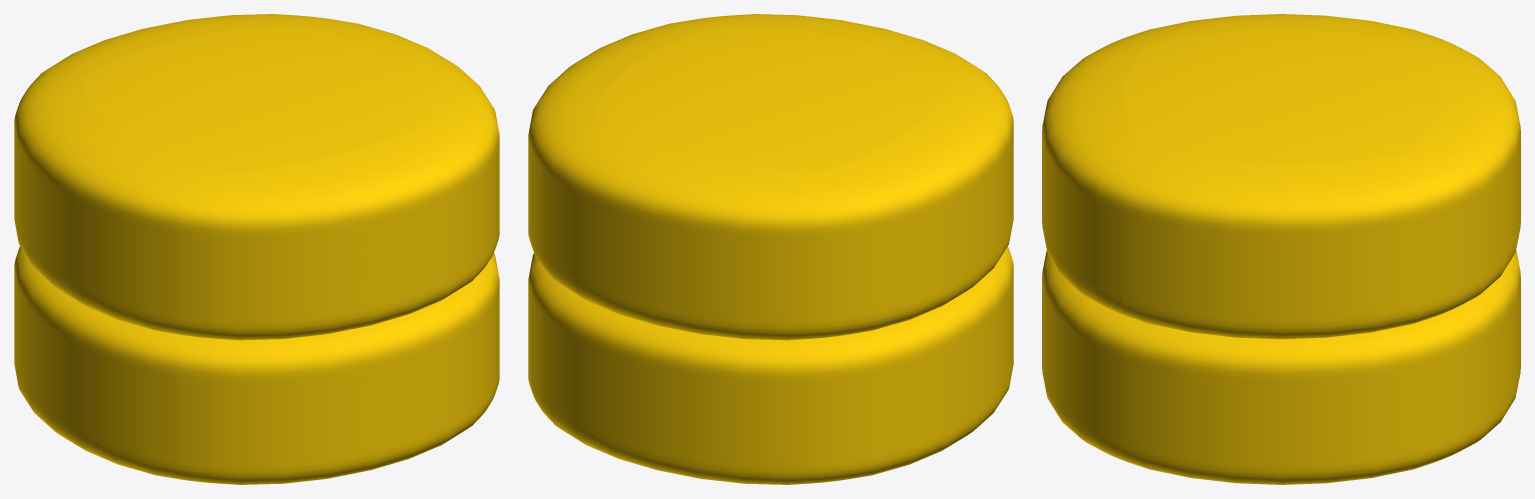
File: mouse.glb
3 renders of one model, left to right at view 1: azimuth 30°, elevation 25°; view 2: azimuth 150°, elevation 25°; view 3: azimuth 270°, elevation 25°, orthographic.
Parts seen in each view (by area): view 1: Cube.004; view 2: Cube.004; view 3: Cube.004.
Part boxes in pixels (bbox=[...]): Cube.004: bbox=[14, 14, 499, 484]; Cube.004: bbox=[528, 14, 1013, 484]; Cube.004: bbox=[1042, 14, 1520, 484].
Bounding box in the file's own units: 3.8 × 2.77 × 3.8.
